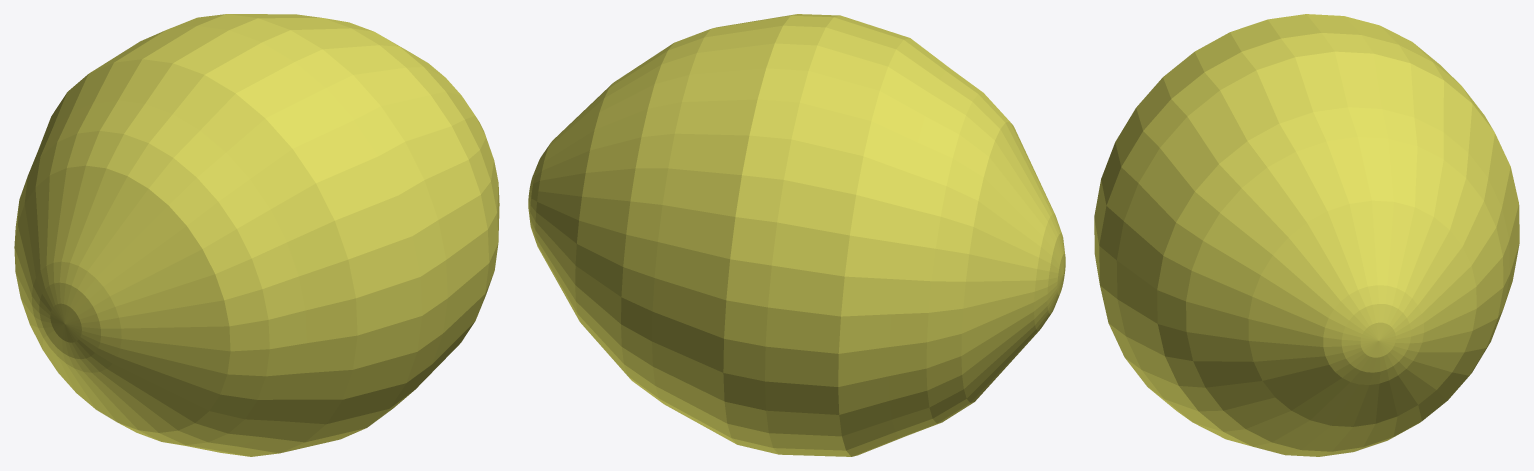
Rendered from limao.fbx.
3 views of the same model, side by side, from view 1: azimuth 30°, elevation 25°; view 2: azimuth 150°, elevation 25°; view 3: azimuth 270°, elevation 25° (orthographic). The views are drawn at different scales.
Visible parts, largest first — view 1: Sphere; view 2: Sphere; view 3: Sphere.
Part boxes in pixels (x1,y1,x2,y2): Sphere: (14, 14, 499, 456); Sphere: (528, 14, 1065, 456); Sphere: (1094, 14, 1519, 456).
Bounding box in the file's own units: 245 × 199 × 196.
